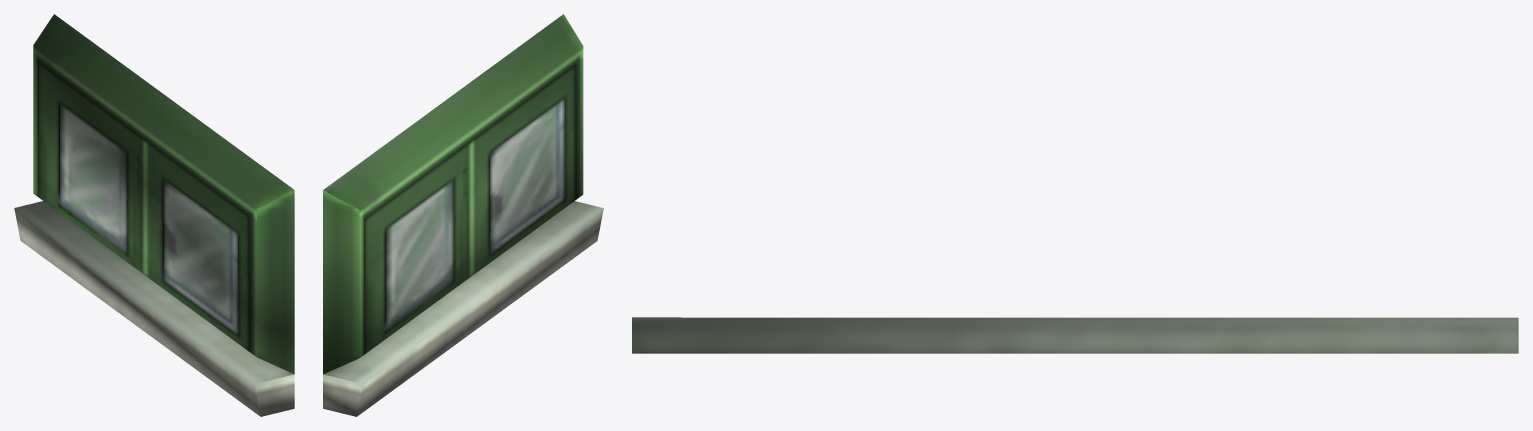
Rendered from a_SCwin02_1.glb.
3 views of the same model, side by side, from view 1: azimuth 30°, elevation 25°; view 2: azimuth 150°, elevation 25°; view 3: azimuth 270°, elevation 25° (orthographic). The views are drawn at different scales.
Visible parts, largest first — view 1: a_SCwin02_1; view 2: a_SCwin02_1; view 3: a_SCwin02_1.
Boxes of the visible parts, bbox=[...] form: a_SCwin02_1: bbox=[14, 14, 294, 416]; a_SCwin02_1: bbox=[323, 14, 603, 416]; a_SCwin02_1: bbox=[632, 317, 1518, 353].
Bounding box in the file's own units: 0.0963 × 0.4997 × 0.9965.
1 material, 1 textured.
